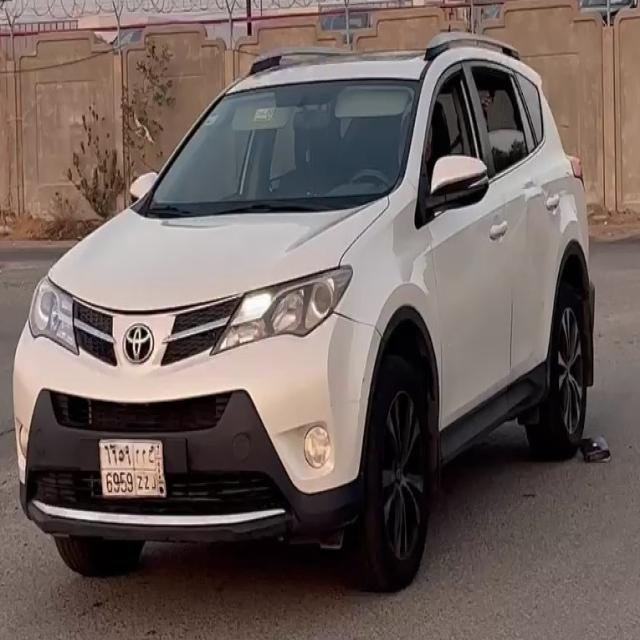Car-plate: (97, 432, 171, 511)
